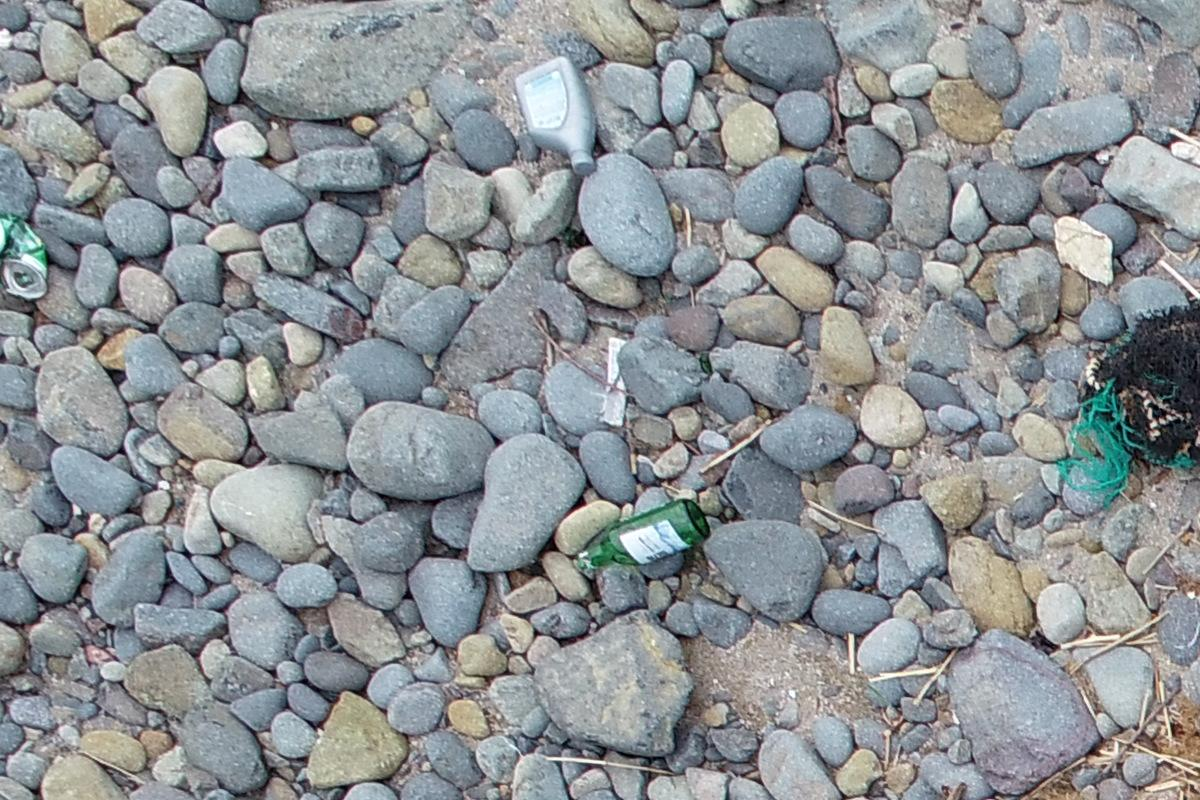(11)Glass: (576, 497, 710, 572)
(11)Metal: (1, 214, 49, 301)
(22)Net: (1053, 198, 1200, 549)
(22)Plastic_ETC: (513, 56, 597, 177)
